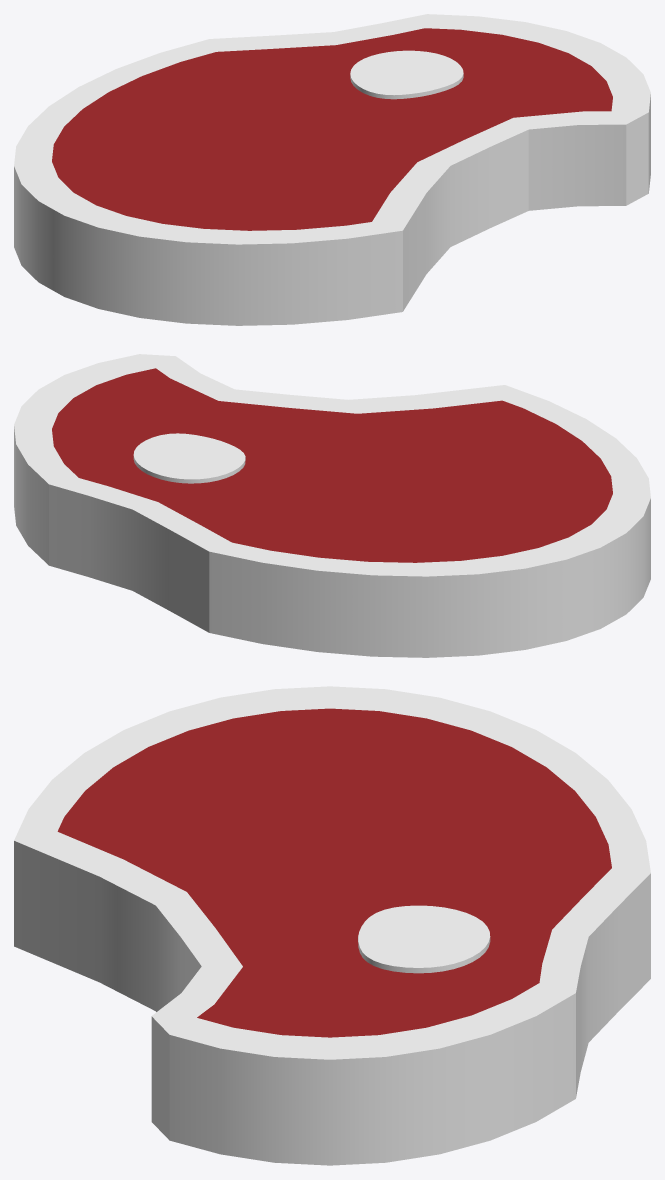
The model's file is Steack.fbx.
3 renders of one model, top to bottom at view 1: azimuth 30°, elevation 25°; view 2: azimuth 150°, elevation 25°; view 3: azimuth 270°, elevation 25°, orthographic. The views are drawn at different scales.
Parts seen in each view (by area): view 1: Steack; view 2: Steack; view 3: Steack.
Boxes of the visible parts, x1,y1,x2,y2 form: Steack: (14,14,650,325); Steack: (14,354,650,657); Steack: (14,686,650,1165).
Size of the model in its own units: 200 by 27.76 by 144.
